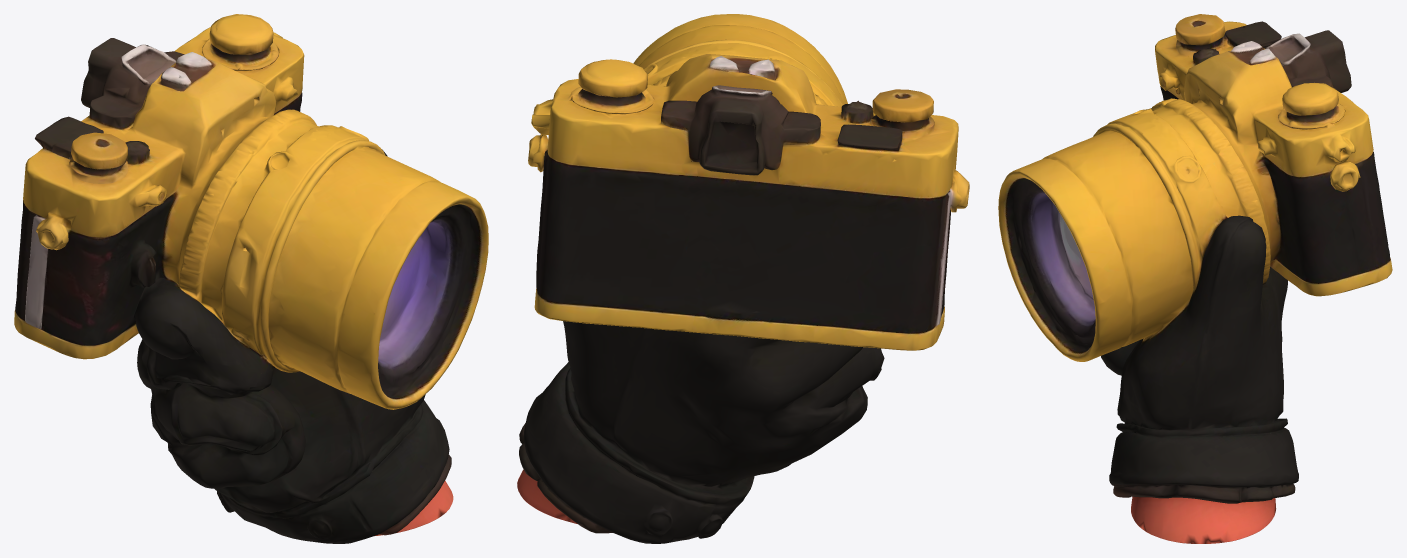
Rendered from lens-hand.glb.
3 renders of one model, left to right at view 1: azimuth 30°, elevation 25°; view 2: azimuth 150°, elevation 25°; view 3: azimuth 270°, elevation 25°, orthographic. The views are drawn at different scales.
Parts seen in each view (by area): view 1: tripo_node_4ef9df23-72fc-4306-9d19-90e76280fc89; view 2: tripo_node_4ef9df23-72fc-4306-9d19-90e76280fc89; view 3: tripo_node_4ef9df23-72fc-4306-9d19-90e76280fc89.
Boxes of the visible parts, left/top/right/bottom form: tripo_node_4ef9df23-72fc-4306-9d19-90e76280fc89: left=14, top=14, right=488, bottom=543; tripo_node_4ef9df23-72fc-4306-9d19-90e76280fc89: left=517, top=14, right=969, bottom=543; tripo_node_4ef9df23-72fc-4306-9d19-90e76280fc89: left=998, top=14, right=1392, bottom=543.
Size of the model in its own units: 0.9332 by 1 by 0.8942.
Materials: 1 (1 with a texture image).
